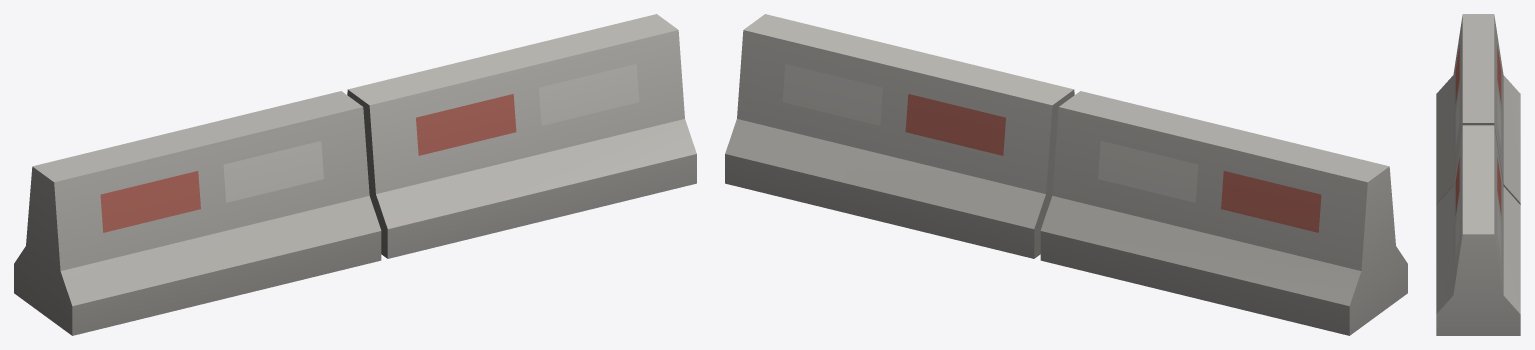
Rendered from jersey.lod1.glb.
The picture shows the model from 3 angles, left to right: view 1: azimuth 30°, elevation 25°; view 2: azimuth 150°, elevation 25°; view 3: azimuth 270°, elevation 25°; orthographic projection. The views are drawn at different scales.
Bounding box in the file's own units: 3.96 × 0.85 × 0.64.
